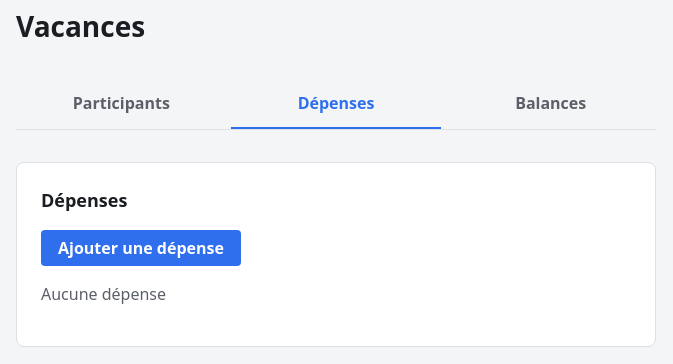
GroupView › le clic sur l'onglet Participants affiche les participants et masque les dépenses
Check: the button "Ajouter une dépense" is shown, box x1=41 y1=230 x2=241 y2=266
What coordinates should you click on to do the following:
click the button "Participants"
I would click on:
 (121, 104)
Its box is x1=16 y1=79 x2=227 y2=129.
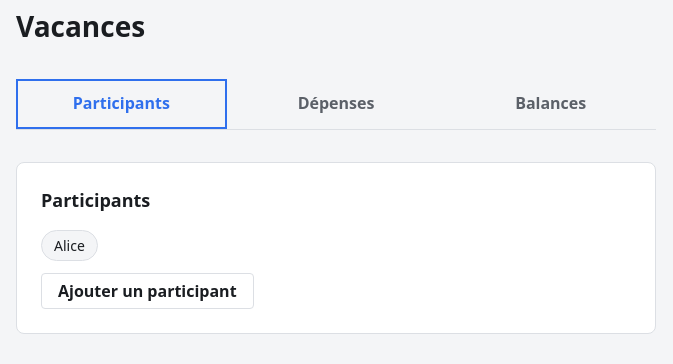
Check: the button "Ajouter un participant" is shown, box x1=41 y1=273 x2=254 y2=309
Check: the button "Ajouter une dépense" is gone
